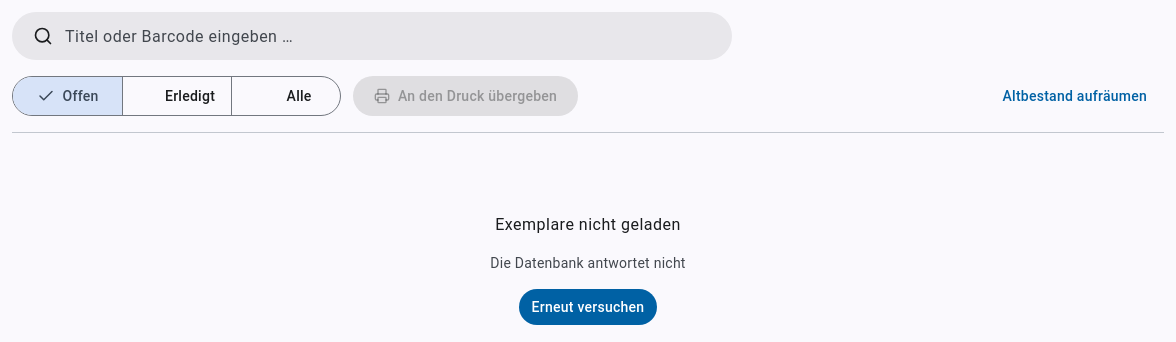
Test: Fehlende Etiketten: die Liste kommt nicht › zeigt den Grund statt „Für alle Exemplare wurden Etiketten gedruckt" und lädt neu
expect the text "Exemplare nicht geladen" is shown: met, box top-left (495, 213), bottom-right (681, 237)
expect the text "Die Datenbank antwortet nicht" is shown: met, box top-left (490, 253), bottom-right (686, 273)
Click the button "Erneut versuchen" at (588, 307), box top-left (519, 289), bottom-right (657, 325)
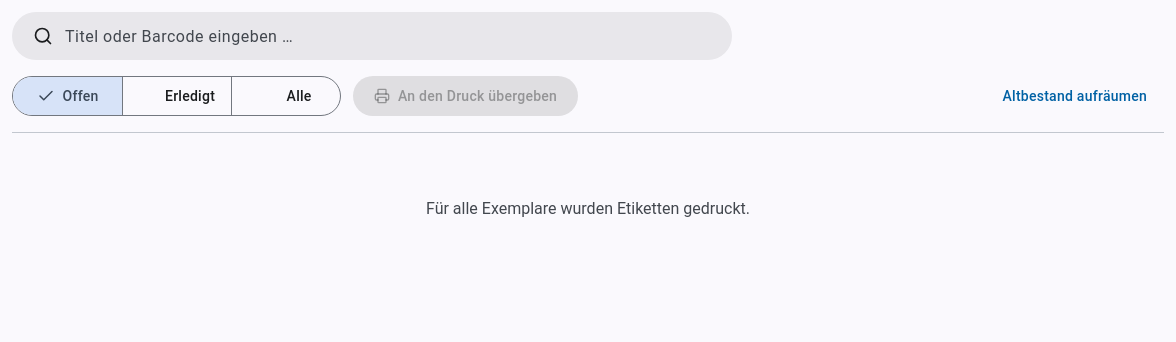
expect the text "Für alle Exemplare wurden Etiketten gedruckt." is shown: met, box top-left (426, 199), bottom-right (750, 218)
expect the text "Exemplare nicht geladen" is gone: met
